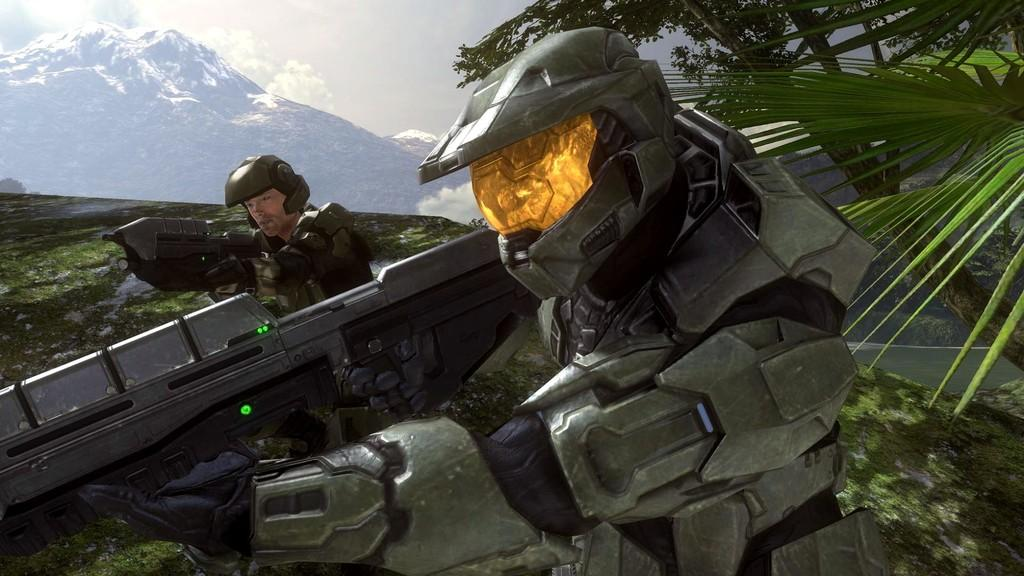non-violence: (212, 152, 376, 312)
weapon: (1, 228, 544, 561), (100, 211, 271, 294)
